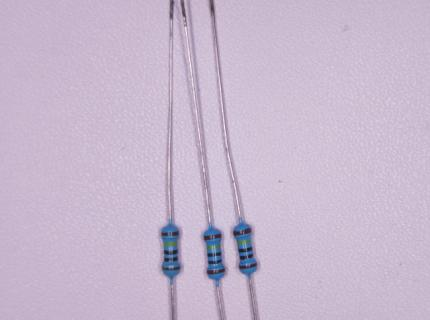Black band: (238, 247, 252, 253), (208, 259, 222, 265), (240, 254, 254, 260), (207, 252, 221, 257), (164, 250, 178, 255), (164, 256, 178, 261)
Brown band: (239, 262, 258, 270), (233, 228, 252, 236), (207, 268, 225, 275), (204, 233, 222, 240), (162, 266, 181, 271), (161, 231, 179, 236)
Yellow band: (237, 239, 251, 245), (163, 241, 178, 246), (206, 244, 221, 249)
